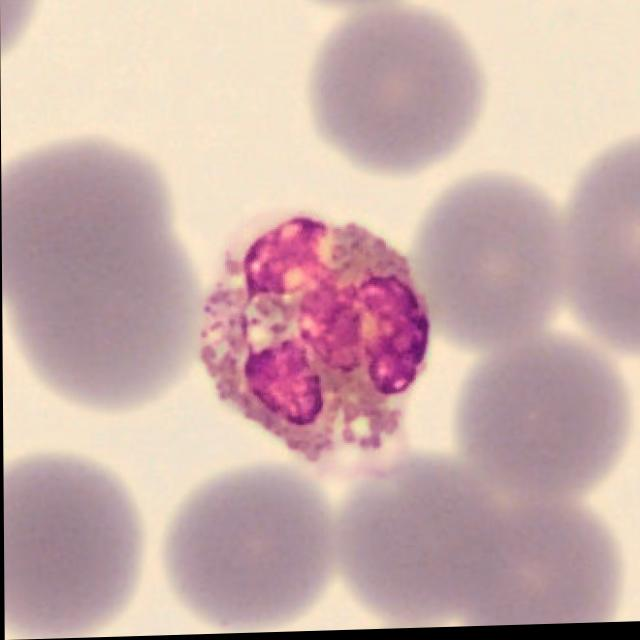Eosinofilo: (200, 213, 431, 479)
